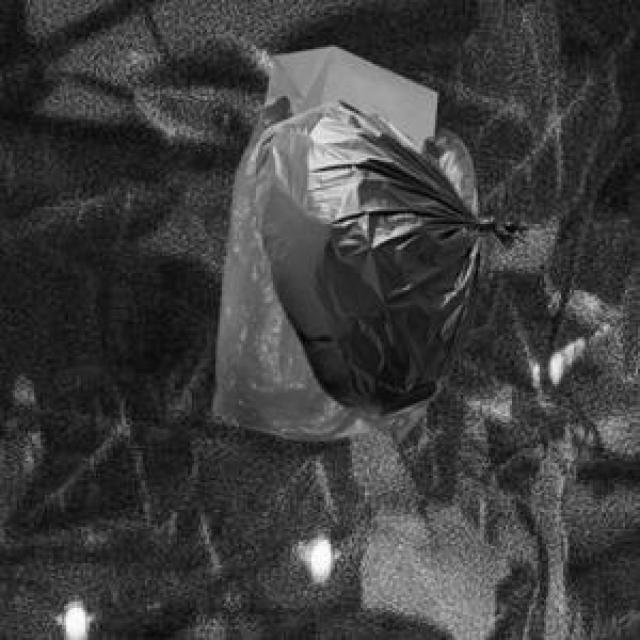miscellaneous trash: (252, 98, 525, 414)
paper: (261, 43, 433, 143)
